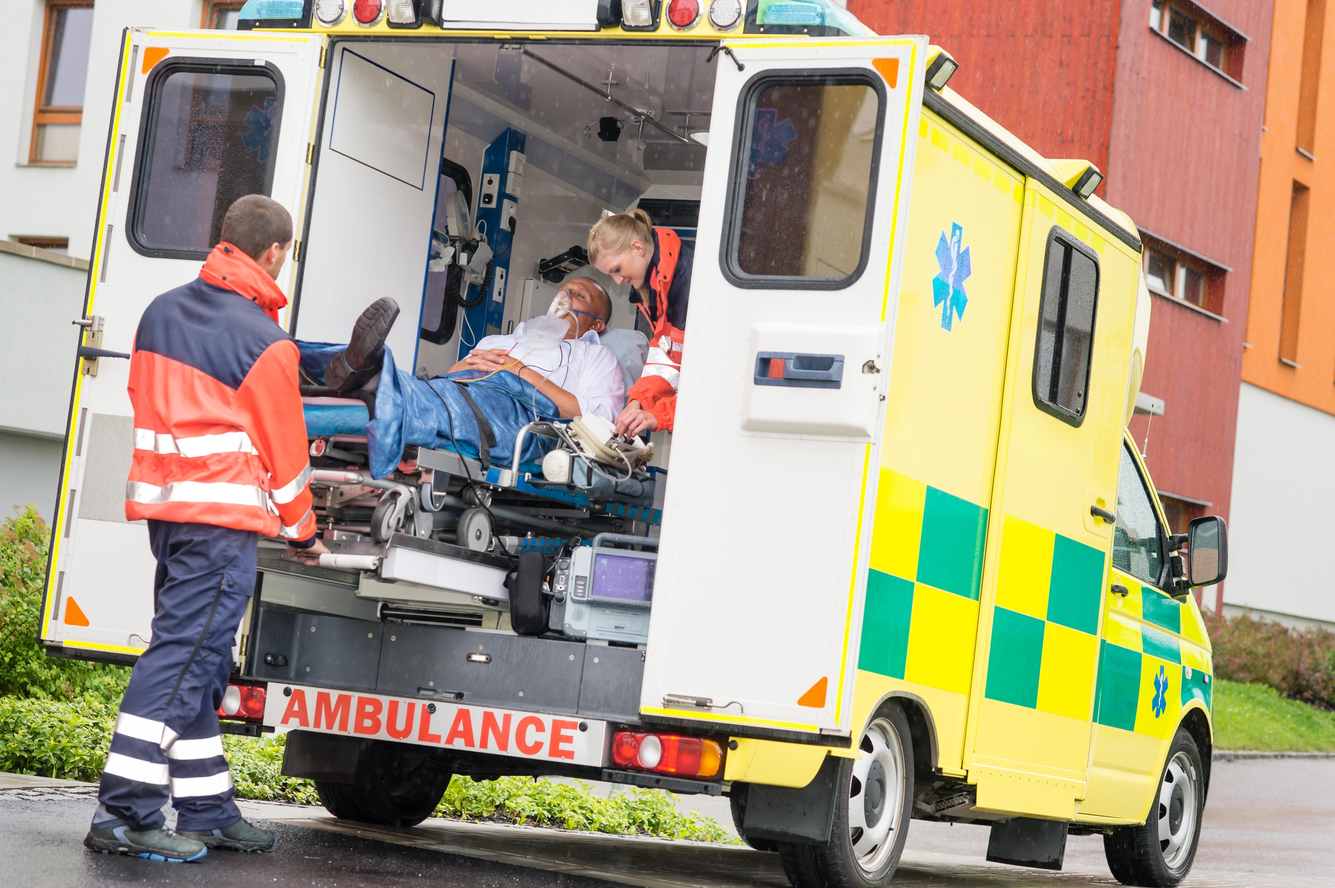Ambulance: (250, 667, 618, 771)
